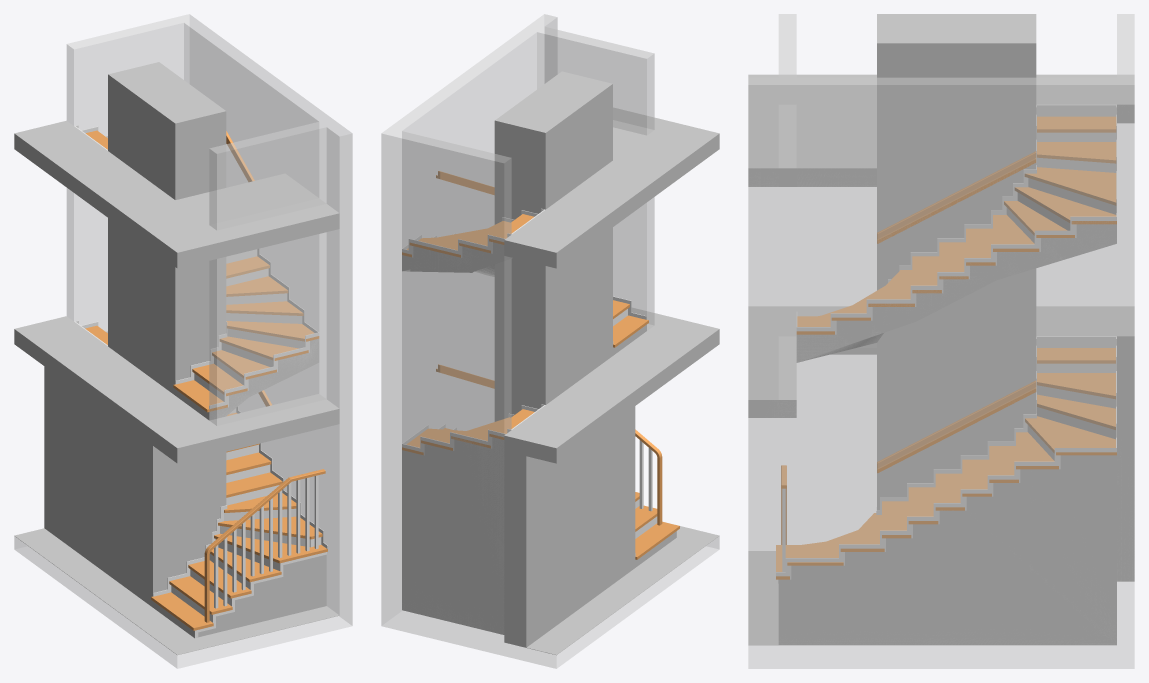
File: устройство лестницы на бетонном основании.obj
3 renders of one model, left to right at view 1: azimuth 30°, elevation 25°; view 2: azimuth 150°, elevation 25°; view 3: azimuth 270°, elevation 25°, orthographic. The views are drawn at different scales.
Size of the model in its own units: 2.68 by 7.2 by 4.32.
